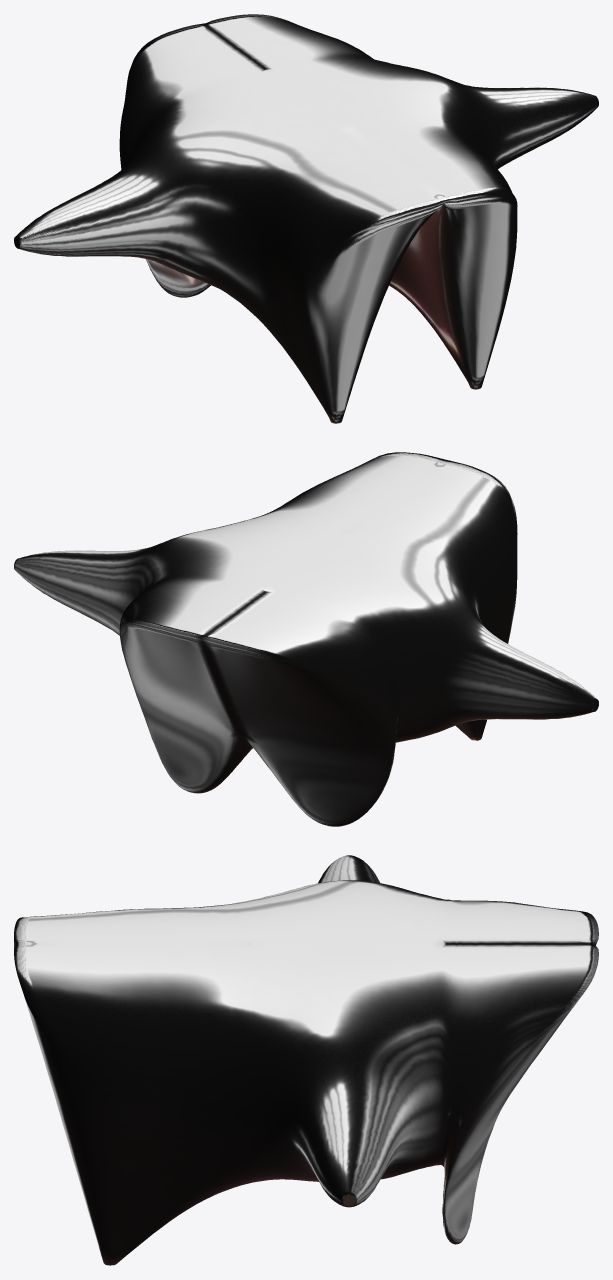
File: spine.glb
3 renders of one model, top to bottom at view 1: azimuth 30°, elevation 25°; view 2: azimuth 150°, elevation 25°; view 3: azimuth 270°, elevation 25°, orthographic. The views are drawn at different scales.
Parts seen in each view (by area): view 1: Cube.004; view 2: Cube.004; view 3: Cube.004.
Boxes of the visible parts, x1=… form: Cube.004: x1=14, y1=14, x2=598, y2=423; Cube.004: x1=14, y1=452, x2=598, y2=826; Cube.004: x1=14, y1=855, x2=598, y2=1265.
Bounding box in the file's own units: 0.8484 × 0.3249 × 0.6196.
1 material, 1 textured.
